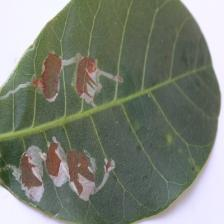leaf miner: (0, 0, 221, 223), (72, 55, 123, 109), (32, 51, 62, 102)
